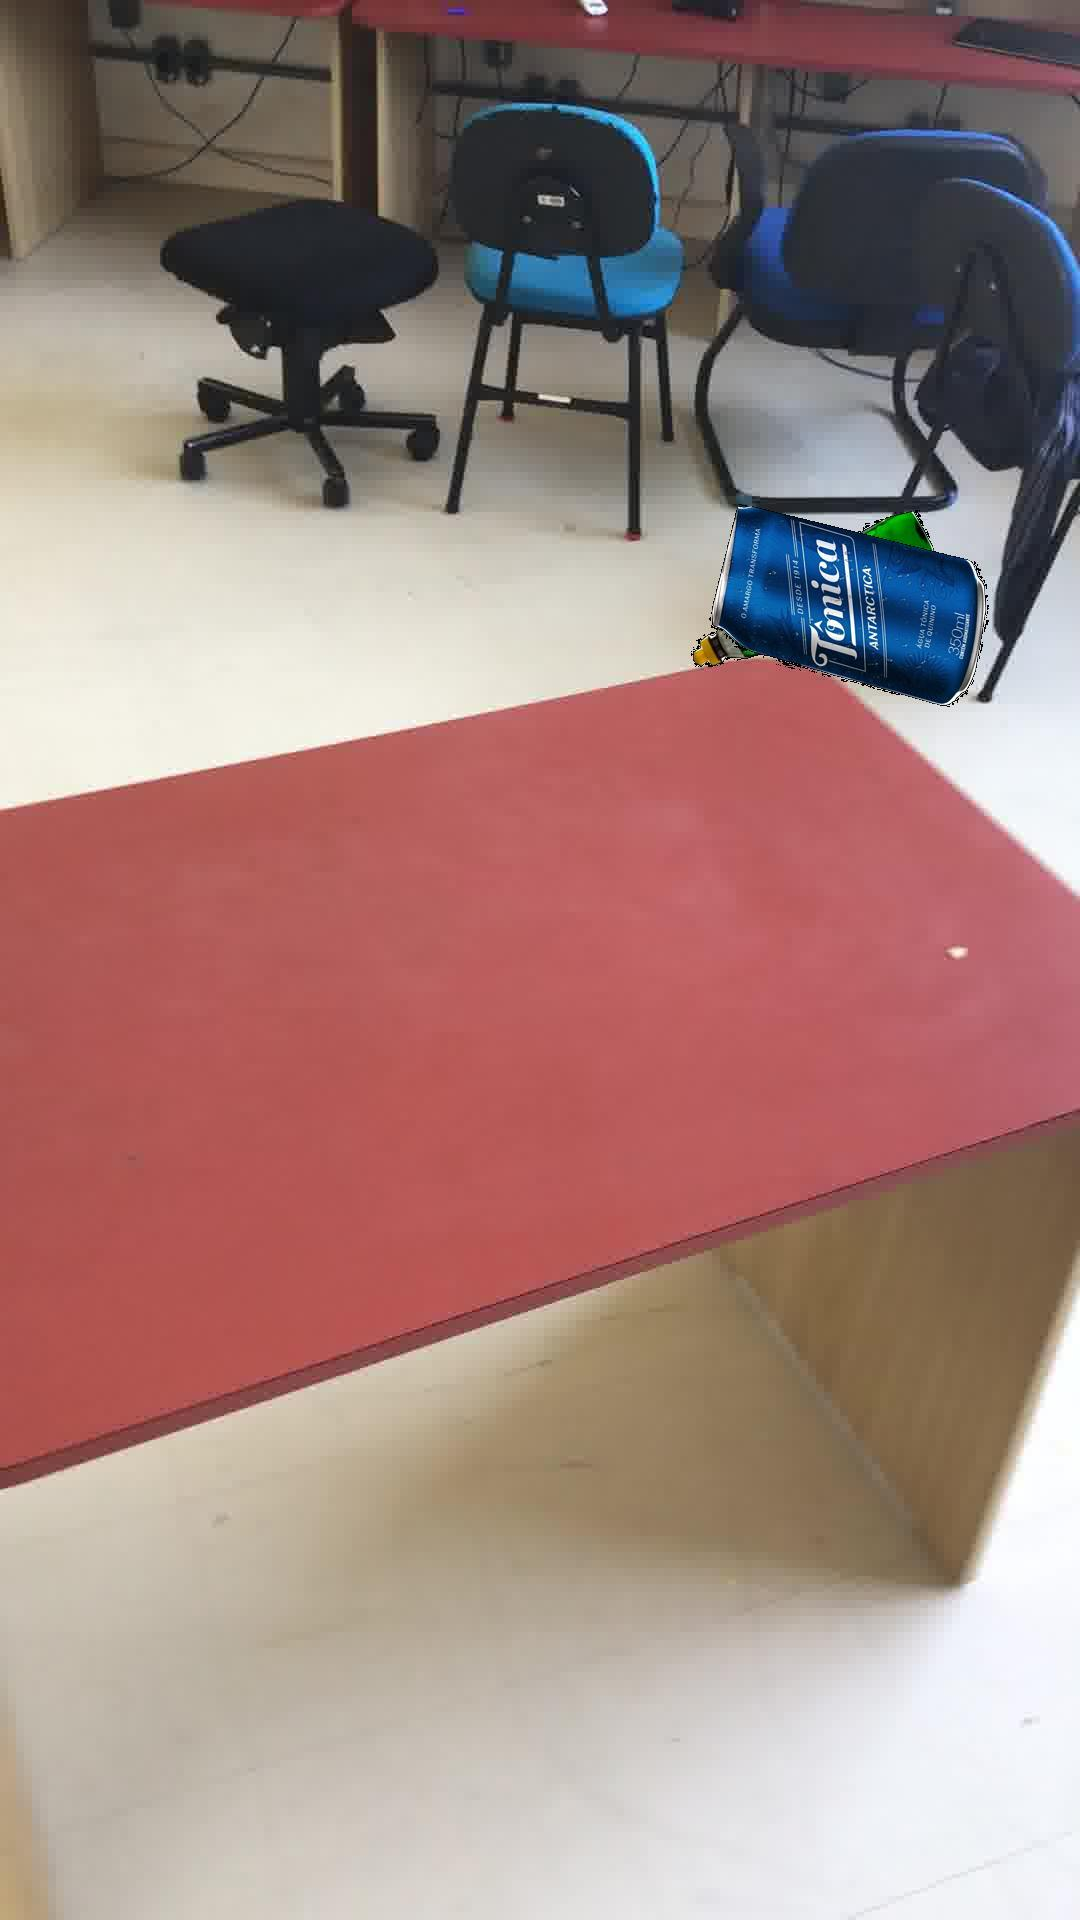cleaner: (690, 509, 932, 666)
tonic: (709, 504, 986, 704)
